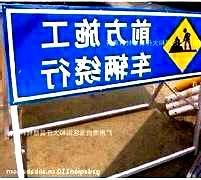sign: (5, 5, 201, 101)
